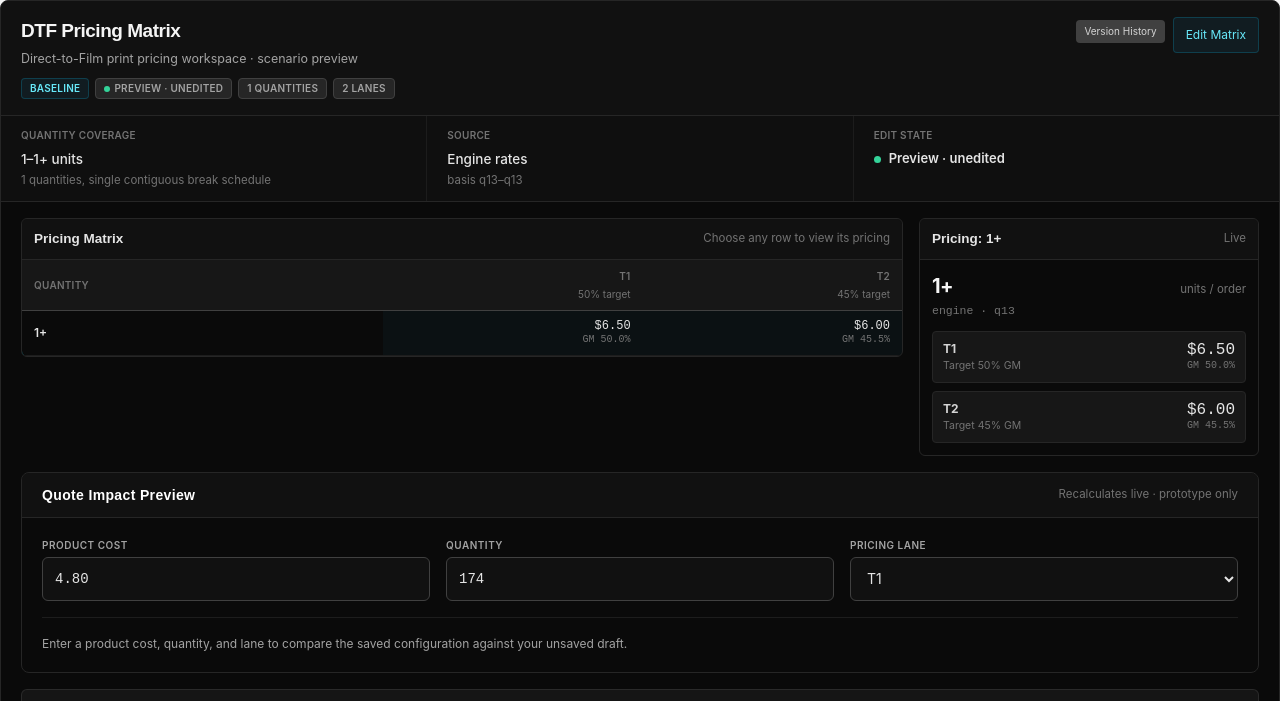
it: editing direct price › recalculates the displayed DTF GM% as the price changes
Expected: the heading "DTF Pricing Matrix" is shown, [21,20,180,41]
Expected: the 1st text "GM 50.0%" is shown, [583,334,631,346]
Click the button "Edit Matrix" at (1216, 35), box [1173,17,1259,53]
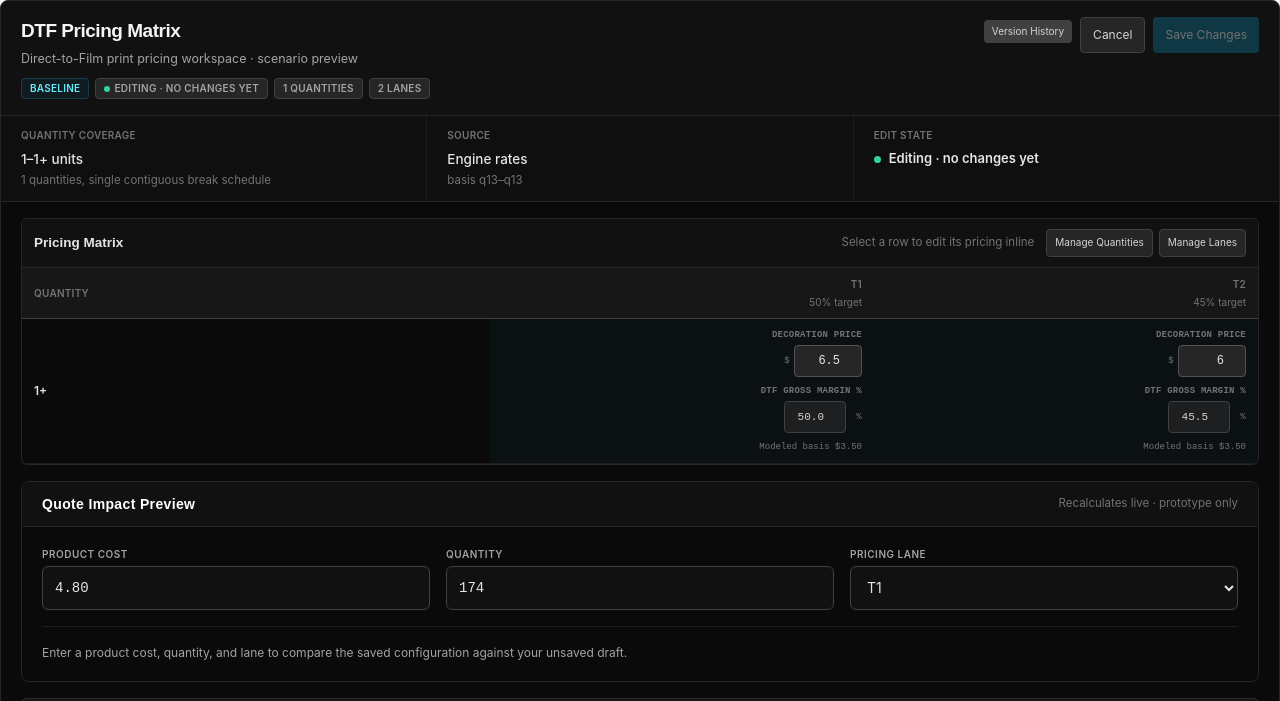
Replace the text in the number field named "Tier 1+ T1 price" with "8.50" at (828, 361), box [794,345,862,377]
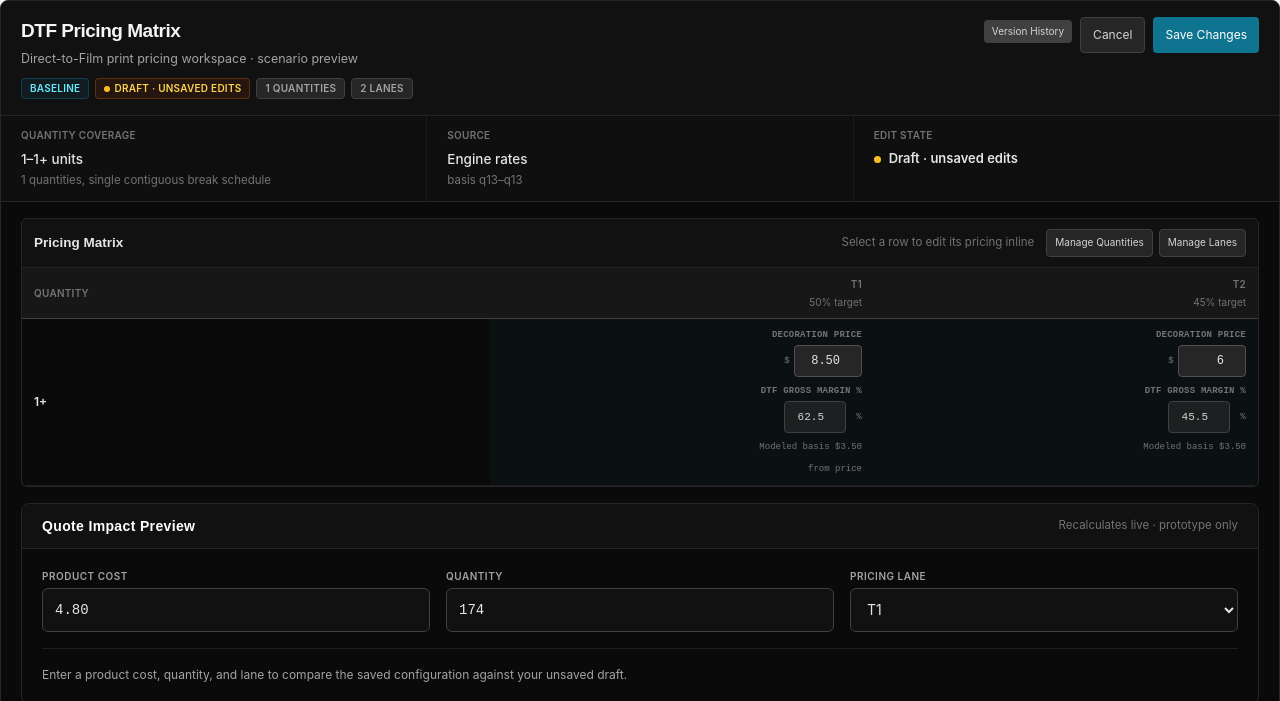
Now the number field named "Tier 1+ T1 DTF GM percent" holds "62.5", box [784,401,846,433]
